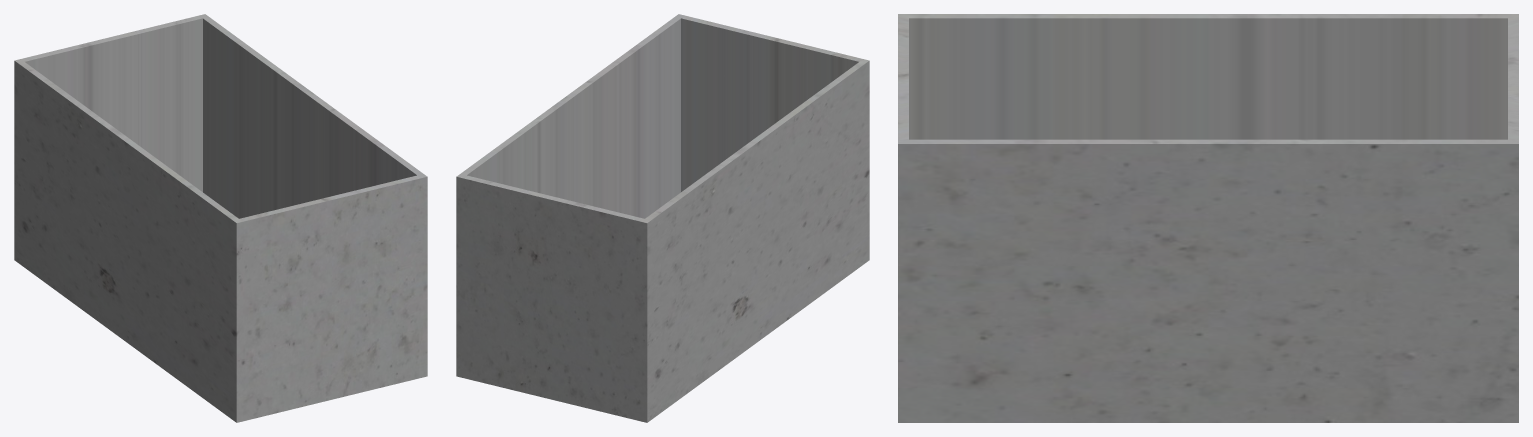
Rendered from container.dae.
The picture shows the model from 3 angles, left to right: view 1: azimuth 30°, elevation 25°; view 2: azimuth 150°, elevation 25°; view 3: azimuth 270°, elevation 25°; orthographic projection. The views are drawn at different scales.
Parts seen in each view (by area): view 1: Cube; view 2: Cube; view 3: Cube.
Boxes of the visible parts, x1=… form: Cube: x1=14, y1=14, x2=427, y2=422; Cube: x1=456, y1=14, x2=869, y2=422; Cube: x1=898, y1=14, x2=1518, y2=422.
Size of the model in its own units: 0.2632 by 0.531 by 0.2632.
Materials: 1 (1 with a texture image).
